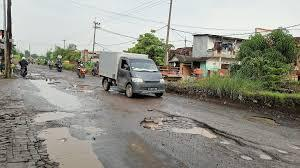Pothole: (138, 102, 300, 166), (20, 108, 114, 168), (142, 110, 226, 148), (26, 74, 87, 119), (245, 115, 284, 131), (234, 144, 254, 165), (259, 146, 272, 164), (276, 147, 289, 156)
